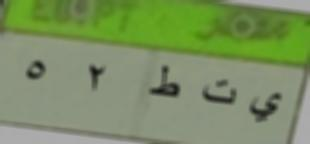2: (87, 59, 108, 97)
5: (20, 56, 50, 87)
Taa: (145, 61, 182, 109)
taa: (201, 75, 236, 114)
yaa: (245, 85, 285, 132)
